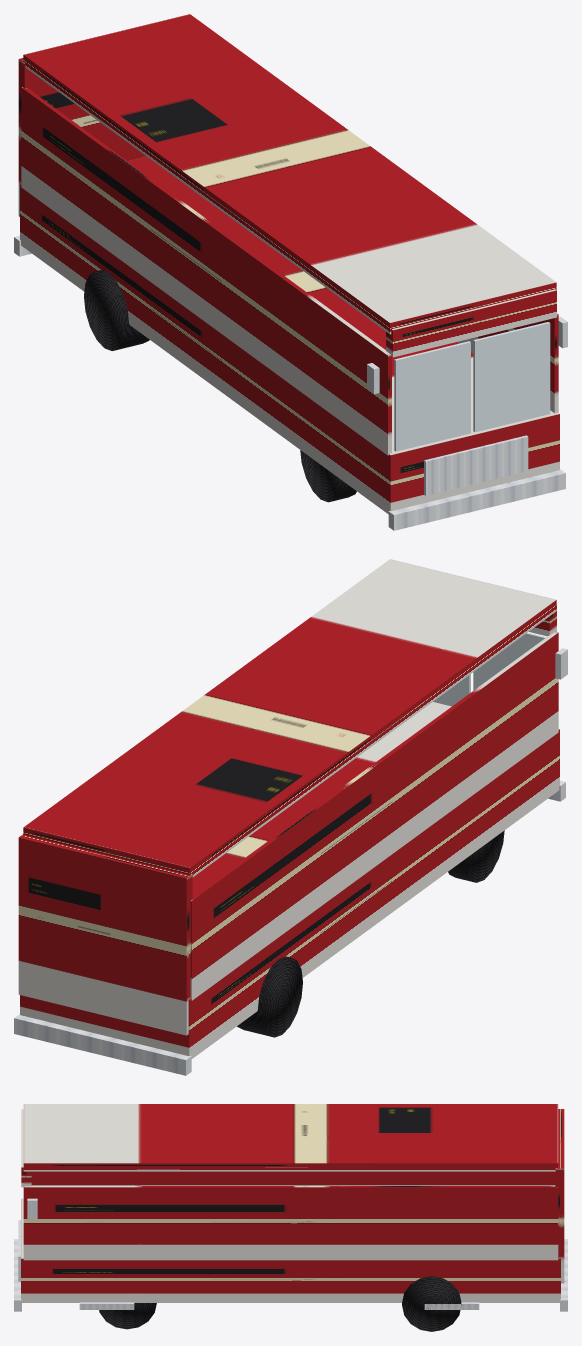
File: best_bus_realistic.glb
3 renders of one model, top to bottom at view 1: azimuth 30°, elevation 25°; view 2: azimuth 150°, elevation 25°; view 3: azimuth 270°, elevation 25°, orthographic. The views are drawn at different scales.
Visible parts, largest first — view 1: Bus_Main_Shell, Bus_Glass_Windows, Bus_Bumpers_Hardware, Bus_Commercial_Wheels; view 2: Bus_Main_Shell, Bus_Commercial_Wheels, Bus_Bumpers_Hardware, Bus_Glass_Windows; view 3: Bus_Main_Shell, Bus_Commercial_Wheels, Bus_Bumpers_Hardware.
Boxes of the visible parts, x1=… form: Bus_Main_Shell: x1=18, y1=14, x2=559, y2=514; Bus_Glass_Windows: x1=394, y1=322, x2=550, y2=451; Bus_Bumpers_Hardware: x1=14, y1=235, x2=567, y2=530; Bus_Commercial_Wheels: x1=84, y1=270, x2=356, y2=502; Bus_Main_Shell: x1=18, y1=559, x2=559, y2=1058; Bus_Commercial_Wheels: x1=237, y1=830, x2=504, y2=1037; Bus_Bumpers_Hardware: x1=14, y1=648, x2=567, y2=1075; Bus_Glass_Windows: x1=433, y1=632, x2=546, y2=706; Bus_Main_Shell: x1=21, y1=1104, x2=564, y2=1302; Bus_Commercial_Wheels: x1=99, y1=1276, x2=461, y2=1331; Bus_Bumpers_Hardware: x1=14, y1=1198, x2=567, y2=1311.
Size of the model in its own units: 2.84 by 3.2 by 9.64.
Materials: 4 (3 with a texture image).
